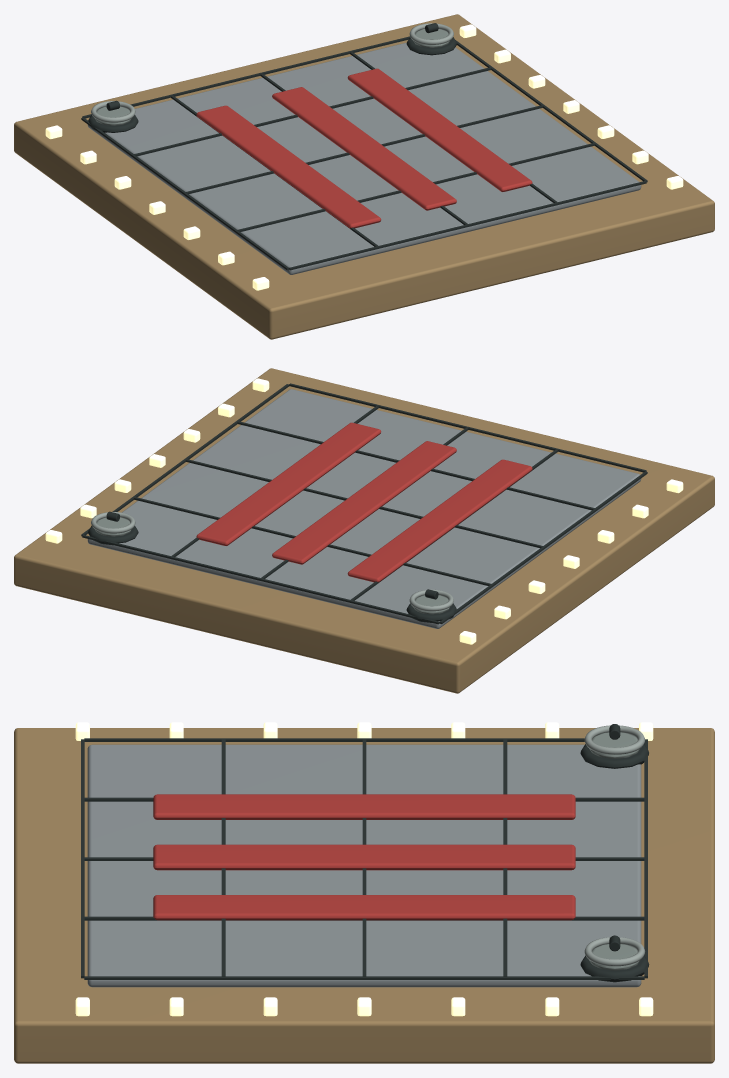
3 views of the same model, one above another, from view 1: azimuth 30°, elevation 25°; view 2: azimuth 150°, elevation 25°; view 3: azimuth 270°, elevation 25° (orthographic). The views are drawn at different scales.
Parts seen in each view (by area): view 1: Foundation slab, Landing pad inset, Landing pad runway stripe.001, Landing pad runway stripe.002, Landing pad runway stripe, Landing deck cross joint, Landing deck cross joint.004, Landing deck cross joint.003, Landing deck cross joint.001, Landing deck cross joint.002, Landing deck joint, Landing deck joint.004; view 2: Foundation slab, Landing pad inset, Landing pad runway stripe.001, Landing pad runway stripe.002, Landing pad runway stripe, Landing deck cross joint, Landing deck cross joint.004, Landing deck cross joint.001, Landing deck cross joint.003, Landing deck cross joint.002, Landing deck joint, Landing deck joint.004; view 3: Landing pad inset, Foundation slab, Landing pad runway stripe.001, Landing pad runway stripe, Landing pad runway stripe.002, Landing deck joint.004, Landing deck joint, Landing deck joint.003, Landing deck cross joint, Pad hydraulic service rim, Pad hydraulic service rim.001, Landing deck cross joint.004 (+9 smaller).
Part boxes in pixels (<box>): Foundation slab: <box>14,14,714,339</box>; Landing pad inset: <box>87,42,641,274</box>; Landing pad runway stripe.001: <box>272,87,456,210</box>; Landing pad runway stripe.002: <box>347,68,532,191</box>; Landing pad runway stripe: <box>196,105,381,228</box>; Landing deck cross joint: <box>289,181,646,270</box>; Landing deck cross joint.004: <box>82,36,410,118</box>; Landing deck cross joint.003: <box>134,67,491,156</box>; Landing deck cross joint.001: <box>237,143,594,231</box>; Landing deck cross joint.002: <box>186,105,542,193</box>; Landing deck joint: <box>81,117,289,269</box>; Landing deck joint.004: <box>455,40,647,182</box>; Foundation slab: <box>14,368,714,693</box>; Landing pad inset: <box>87,389,641,628</box>; Landing pad runway stripe.001: <box>272,441,456,564</box>; Landing pad runway stripe.002: <box>196,422,381,545</box>; Landing pad runway stripe: <box>347,459,532,582</box>; Landing deck cross joint: <box>289,383,646,472</box>; Landing deck cross joint.004: <box>82,535,439,624</box>; Landing deck cross joint.001: <box>237,421,594,510</box>; Landing deck cross joint.003: <box>134,497,491,585</box>; Landing deck cross joint.002: <box>186,459,542,547</box>; Landing deck joint: <box>439,471,647,623</box>; Landing deck joint.004: <box>81,384,289,536</box>; Landing pad inset: <box>87,744,641,987</box>; Foundation slab: <box>14,728,714,1063</box>; Landing pad runway stripe.001: <box>153,844,575,870</box>; Landing pad runway stripe: <box>153,794,575,819</box>; Landing pad runway stripe.002: <box>153,895,575,920</box>; Landing deck joint.004: <box>84,976,644,979</box>; Landing deck joint: <box>84,738,584,741</box>; Landing deck joint.003: <box>84,916,644,920</box>; Landing deck cross joint: <box>81,739,84,978</box>; Pad hydraulic service rim: <box>584,725,644,754</box>; Pad hydraulic service rim.001: <box>584,937,645,966</box>; Landing deck cross joint.004: <box>644,739,647,978</box>.
Bounding box in the file's own units: 2.24 × 0.2974 × 2.24.
